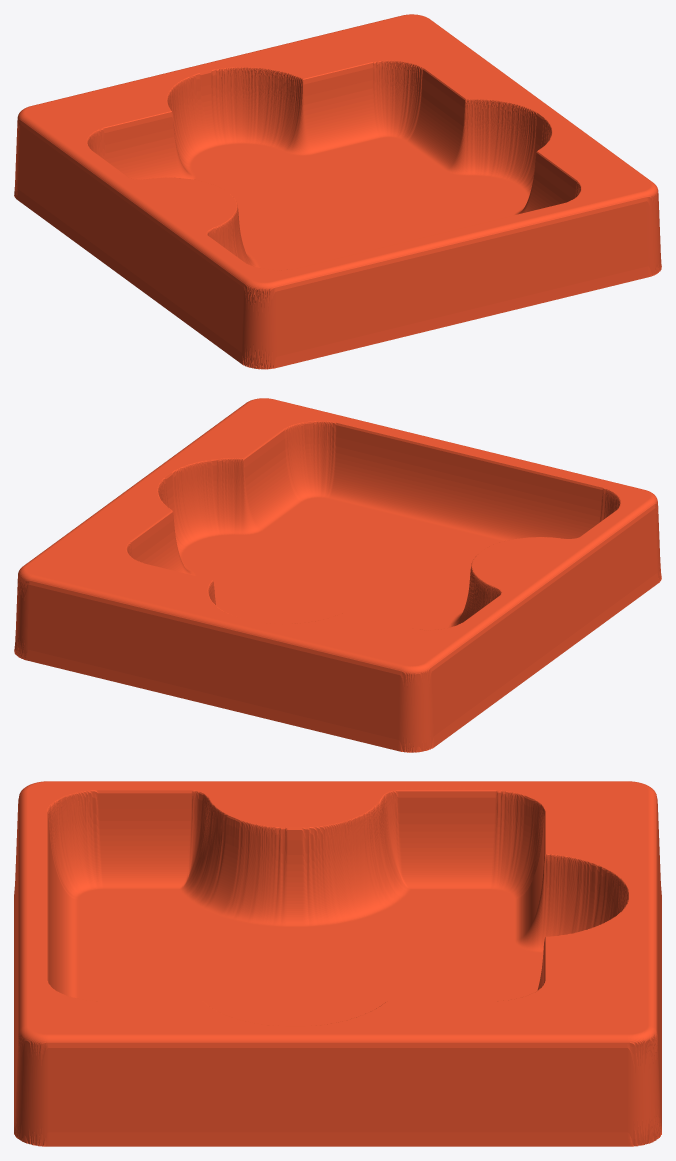
File: mold.glb
3 renders of one model, top to bottom at view 1: azimuth 30°, elevation 25°; view 2: azimuth 150°, elevation 25°; view 3: azimuth 270°, elevation 25°, orthographic. The views are drawn at different scales.
Parts seen in each view (by area): view 1: geometry_0; view 2: geometry_0; view 3: geometry_0.
Boxes of the visible parts, x1=… form: geometry_0: x1=14, y1=14, x2=661, y2=369; geometry_0: x1=14, y1=398, x2=661, y2=752; geometry_0: x1=14, y1=781, x2=661, y2=1146.
Bounding box in the file's own units: 0.1646 × 0.031 × 0.1709.
